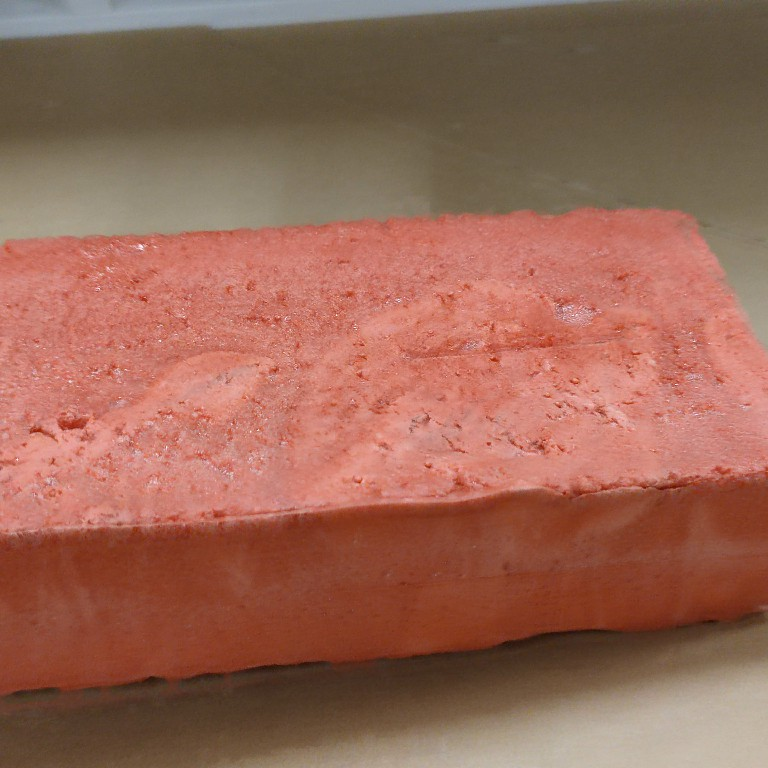brick: (1, 194, 768, 701)
